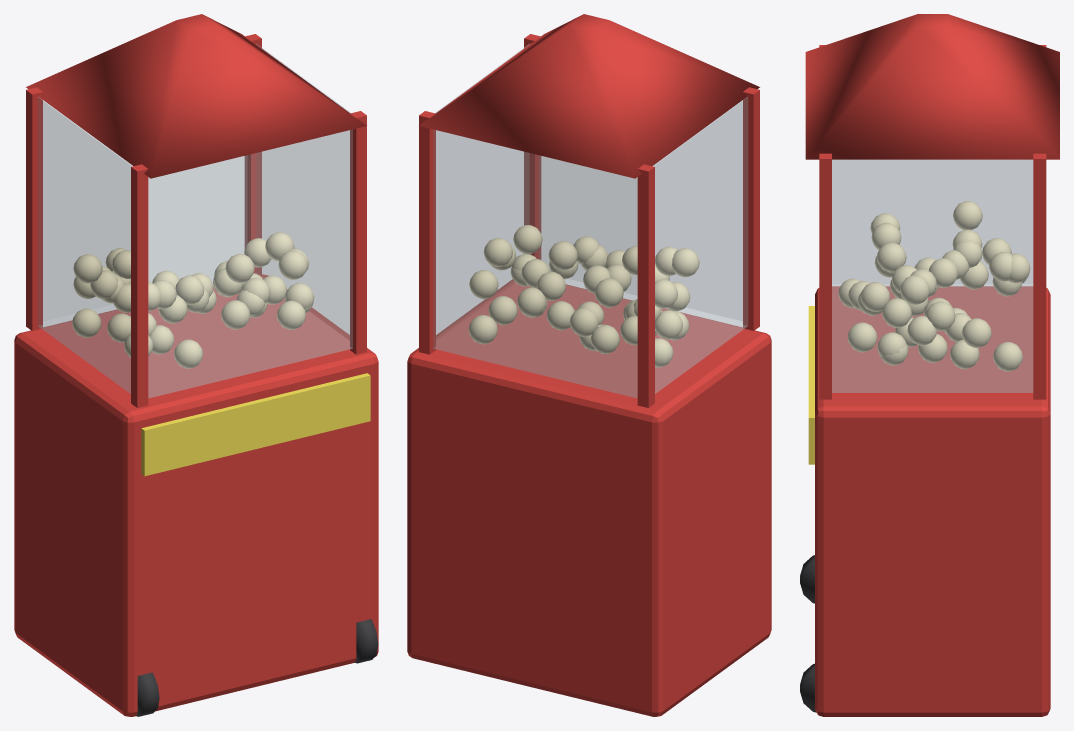
File: popcorn_machine.glb
3 views of the same model, side by side, from view 1: azimuth 30°, elevation 25°; view 2: azimuth 150°, elevation 25°; view 3: azimuth 270°, elevation 25° (orthographic).
Visible parts, largest first — view 1: popcorn_machine; view 2: popcorn_machine; view 3: popcorn_machine.
Boxes of the visible parts, x1,y1,x2,y2 form: popcorn_machine: (14, 14, 378, 716); popcorn_machine: (407, 14, 771, 716); popcorn_machine: (800, 14, 1059, 716).
Bounding box in the file's own units: 0.7 × 1.64 × 0.607.
